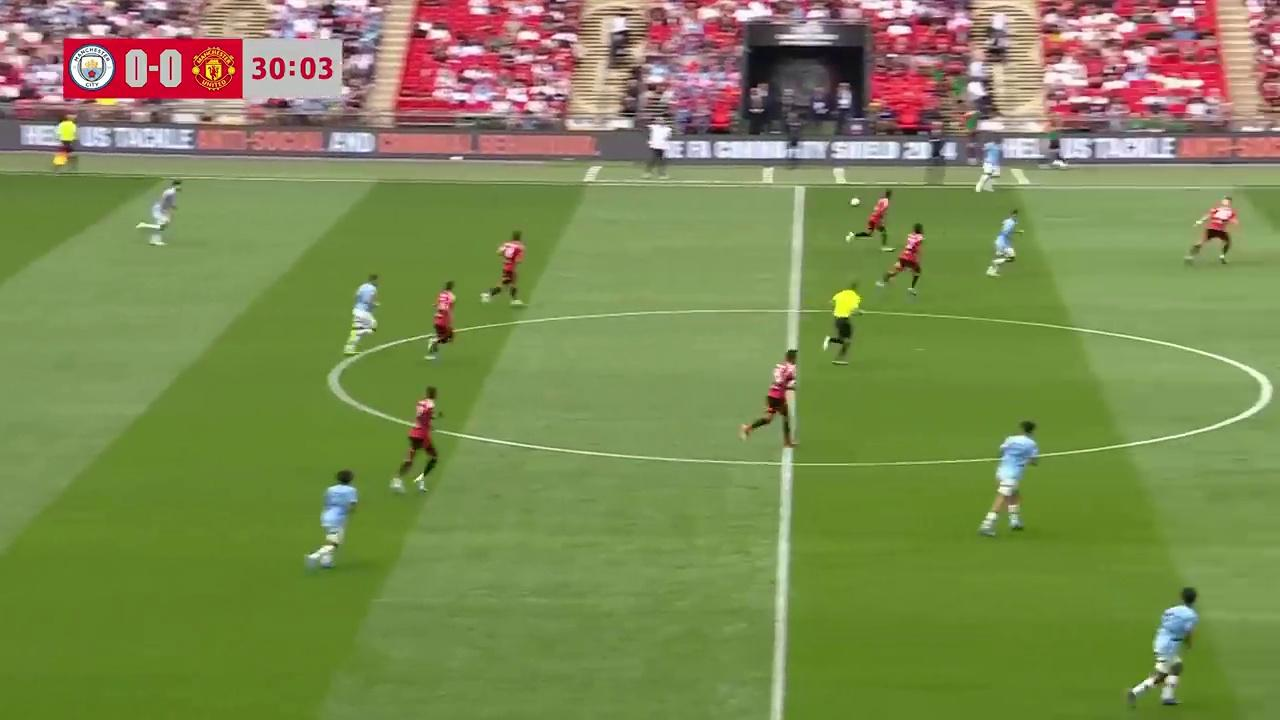ball: (848, 193, 860, 207)
player: (1130, 587, 1199, 708), (977, 419, 1040, 537), (738, 348, 799, 444), (389, 385, 442, 494), (305, 468, 359, 570), (1183, 195, 1239, 266), (482, 232, 525, 305), (883, 223, 924, 298), (424, 280, 456, 360), (986, 209, 1022, 276), (852, 190, 892, 250), (348, 273, 380, 340), (149, 180, 180, 244), (974, 142, 1002, 193)
referee: (821, 279, 864, 366), (53, 114, 78, 173)
